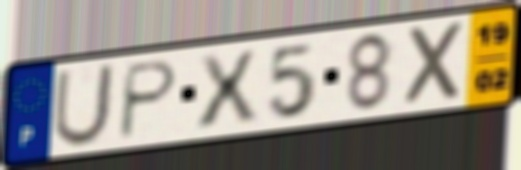5: (265, 40, 321, 122)
8: (345, 30, 396, 114)
P: (114, 57, 182, 143)
U: (49, 61, 118, 149)
X: (403, 17, 470, 110), (194, 47, 261, 132)
